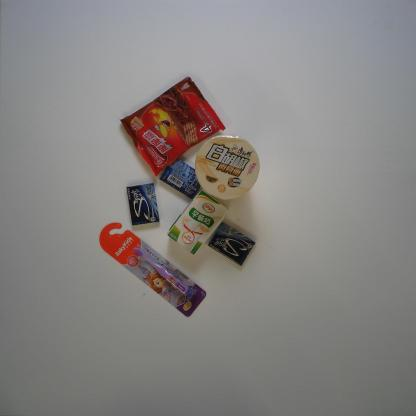Dessert: (119, 75, 226, 176)
Gum: (208, 222, 256, 267), (158, 158, 201, 200), (126, 182, 160, 226)
Instant Noodles: (194, 134, 260, 200)
Milk: (166, 188, 230, 256)
Personal Hygiene: (99, 222, 207, 318)
